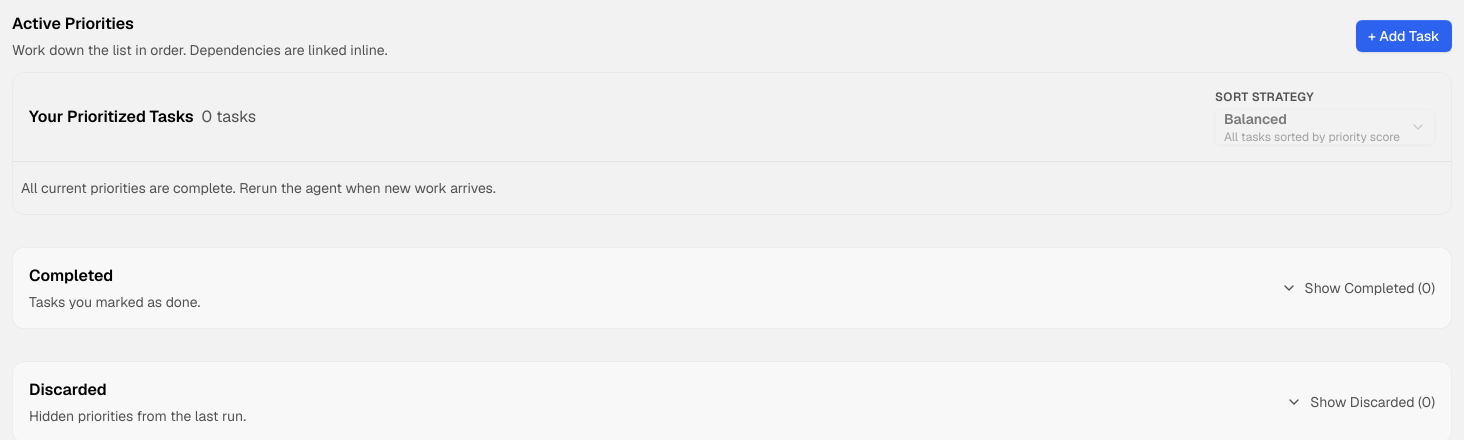
Test: TaskList header › disables sorting when there are no tasks and shows the tooltip
Expected: the text "0 tasks" is shown, [202,105,256,129]
Hover over the dropdown named "sort strategy".
mouse_move(1325, 127)  # box [1215,109,1435,145]
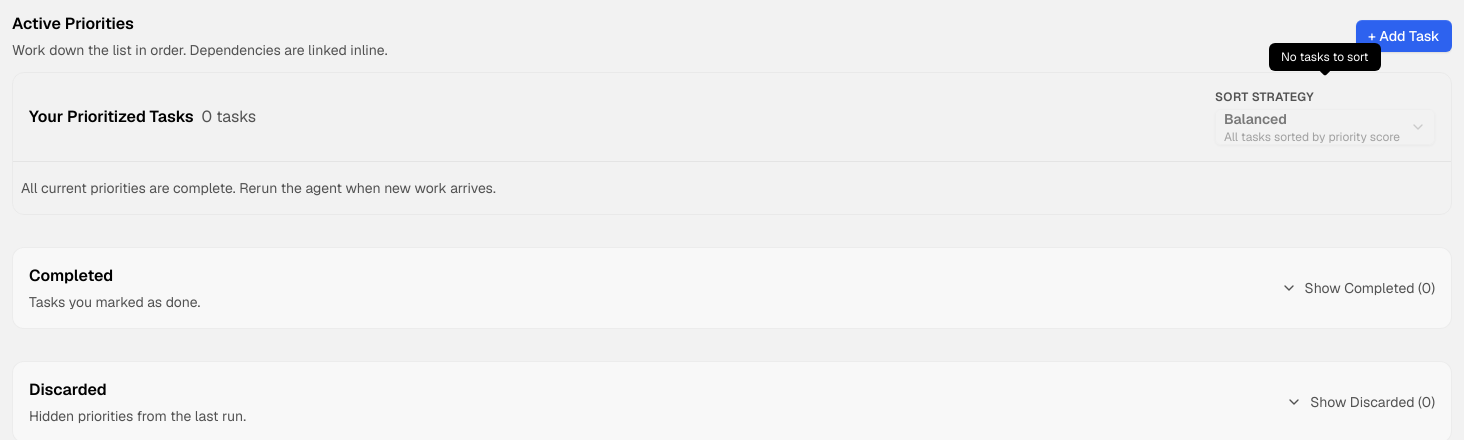
Expected: the tooltip "No tasks to sort" is shown, [1269,43,1381,71]
